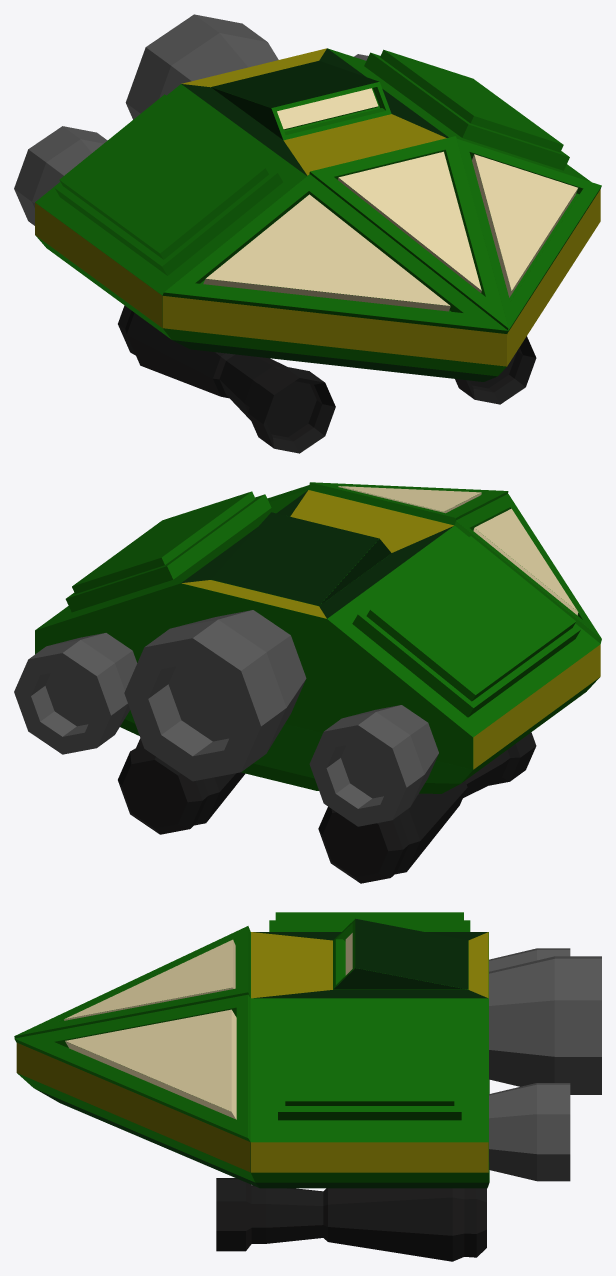
Rendered from nave_inimiga_02.fbx.
The picture shows the model from 3 angles, top to bottom: view 1: azimuth 30°, elevation 25°; view 2: azimuth 150°, elevation 25°; view 3: azimuth 270°, elevation 25°; orthographic projection. The views are drawn at different scales.
Visible parts, largest first — view 1: Plane; view 2: Plane; view 3: Plane.
Part boxes in pixels (x1,y1,x2,y2): Plane: [14, 14, 601, 453]; Plane: [14, 482, 601, 883]; Plane: [14, 912, 601, 1261].
Bounding box in the file's own units: 560 × 354 × 697.
